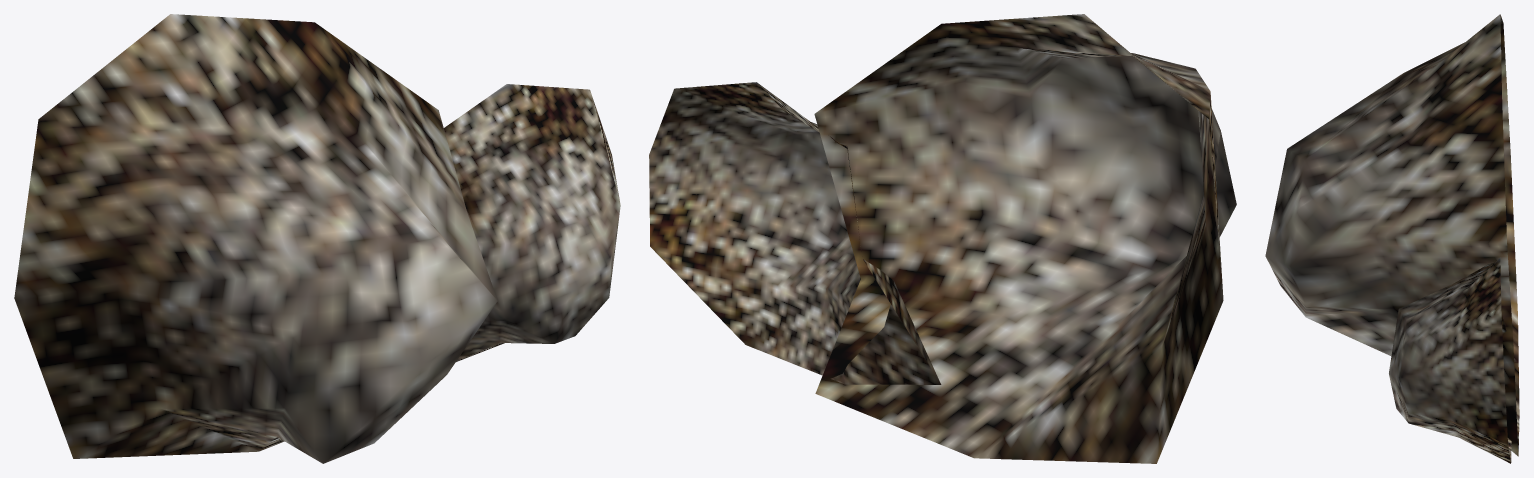
File: stone.gltf
3 views of the same model, side by side, from view 1: azimuth 30°, elevation 25°; view 2: azimuth 150°, elevation 25°; view 3: azimuth 270°, elevation 25° (orthographic). The views are drawn at different scales.
Parts seen in each view (by area): view 1: kuangshi; view 2: kuangshi; view 3: kuangshi.
Part boxes in pixels (x1,y1,x2,y2): kuangshi: (14,14,620,463); kuangshi: (649,14,1236,463); kuangshi: (1265,14,1519,463).
Size of the model in its own units: 8.99 by 6.83 by 4.33.
1 material, 1 textured.
